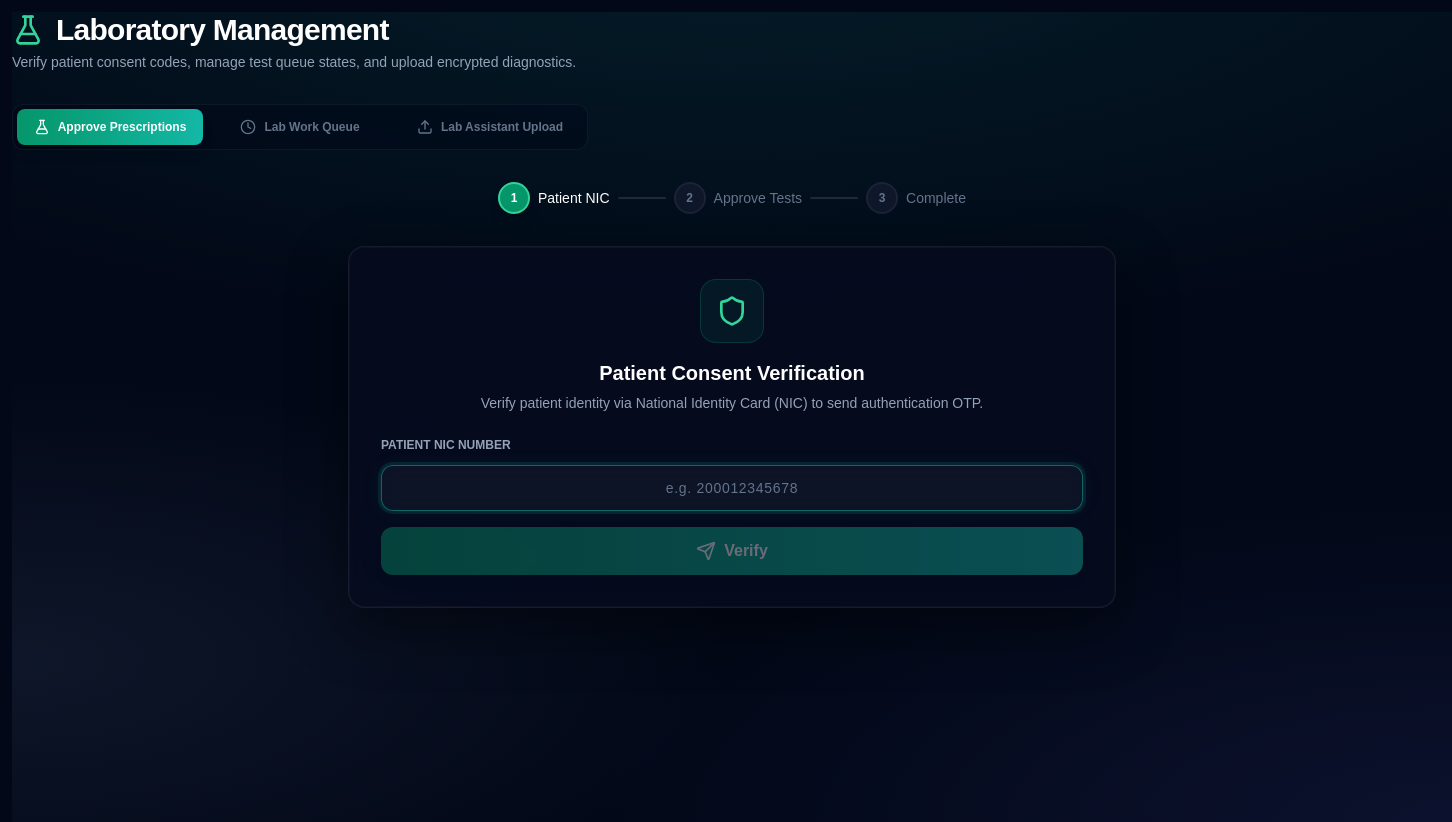
Test case: Item U6: Hospital Lab OTP Request Throttle & Cooldown Hardening › 4. HTTP 429 triggers countdown from retryAfterSeconds and displays localized warning in EN
Later steps or results of the test are not shown.
Type "200012345678" into the field with placeholder "e.g. 200012345678".
click(732, 488); type("200012345678")  # box [381, 465, 1083, 511]
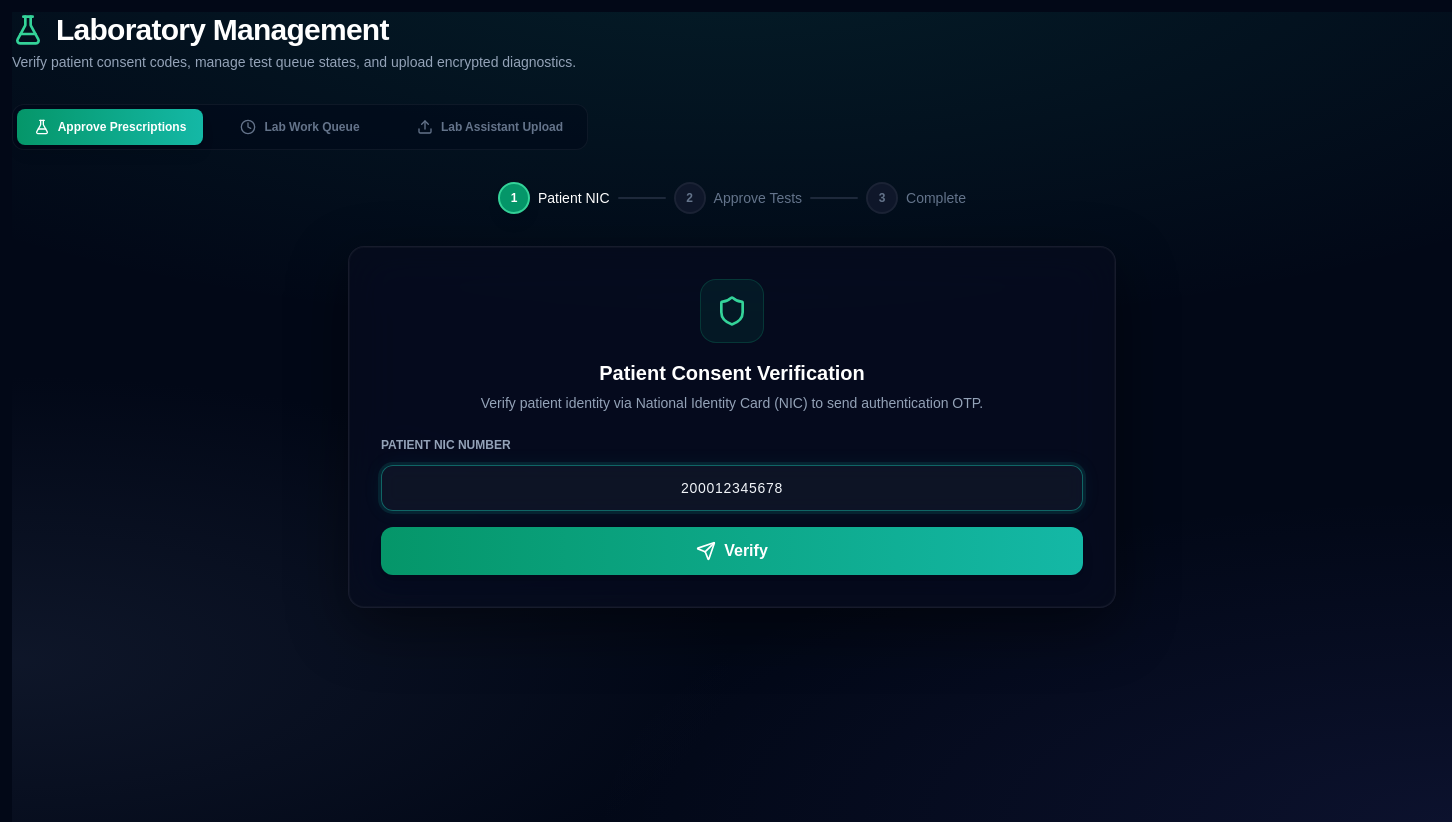
Click the submit button.
click(732, 551)  # box [381, 527, 1083, 575]
Wait 5000 ms
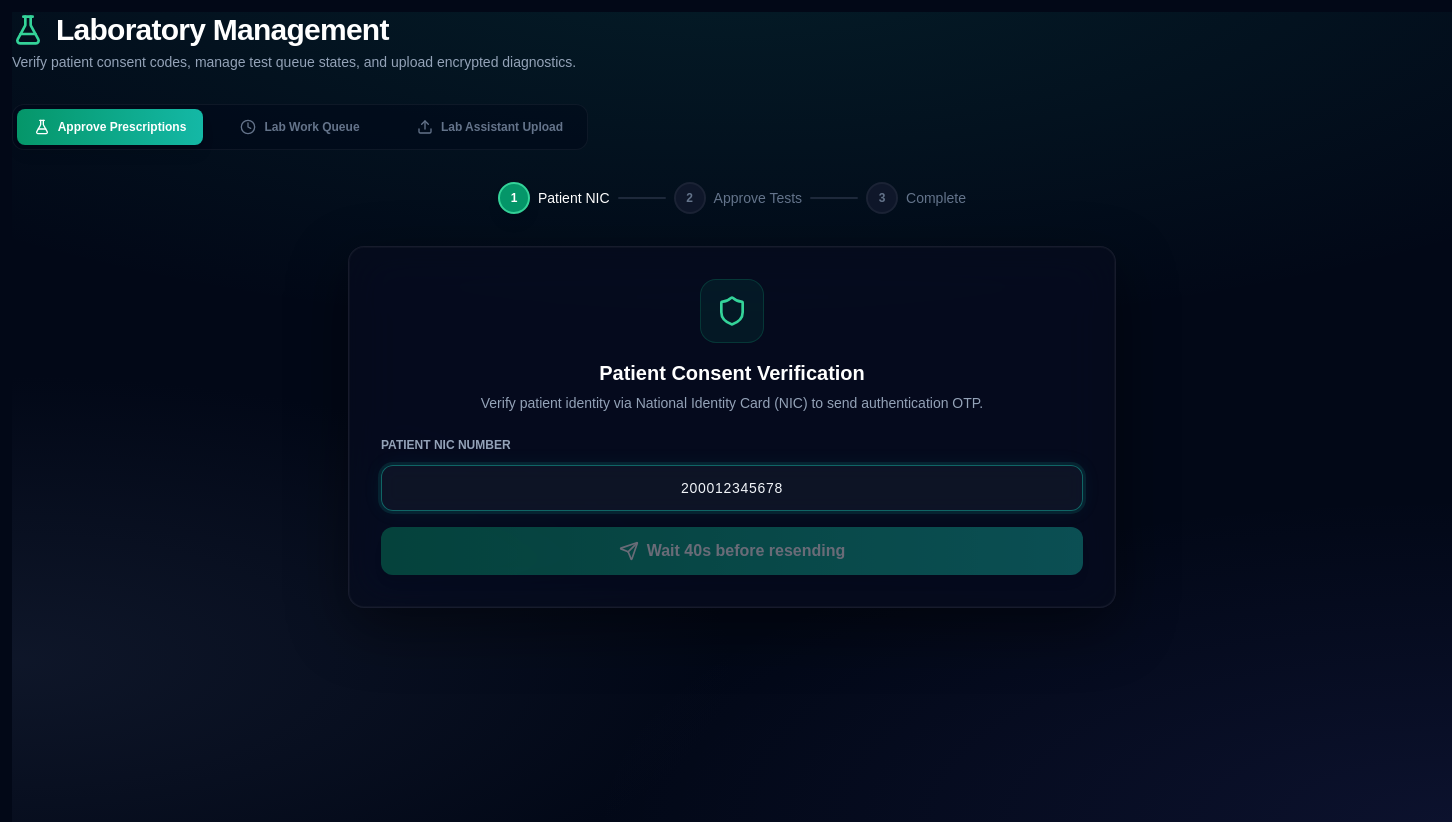
Now the submit button is disabled, box [381, 527, 1083, 575]
Now the submit button reads "Wait 40s before resending", box [381, 527, 1083, 575]
